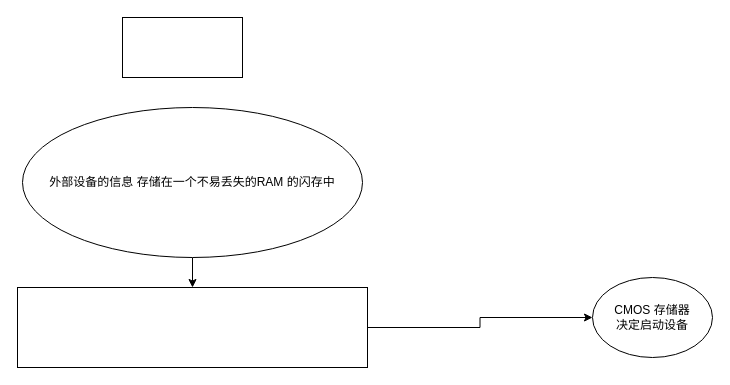
The diagram is 730 pixels wide and 385 high, and some of its shapes have lost their labels. Each missing label, with the centre of its shape:
"BIOS 启动流程" belongs at (182,47).
"判断设备是否可以相应，例如：键盘，屏幕。 从总线回查，当前设备连接是否和之前的记录设备数量 相同，不同则进行更新" belongs at (192,327).
